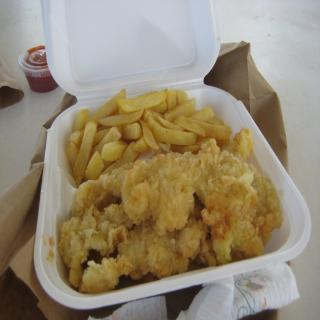French fries: (54, 84, 229, 185)
